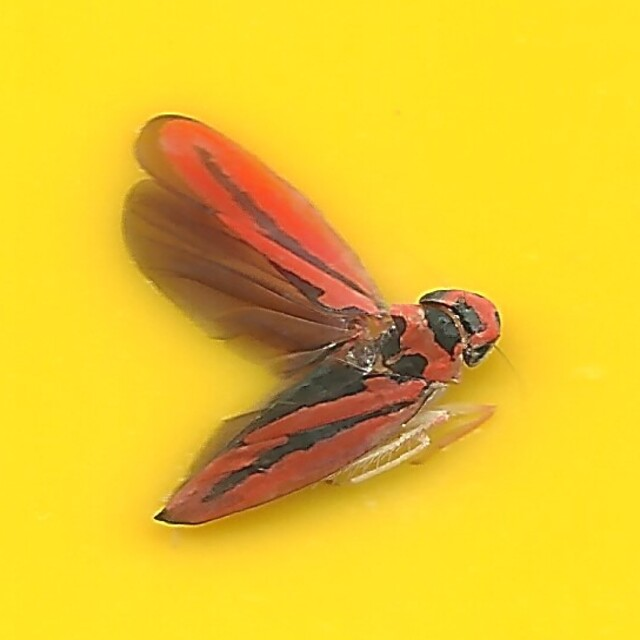Hemiptera: (118, 109, 522, 531)
